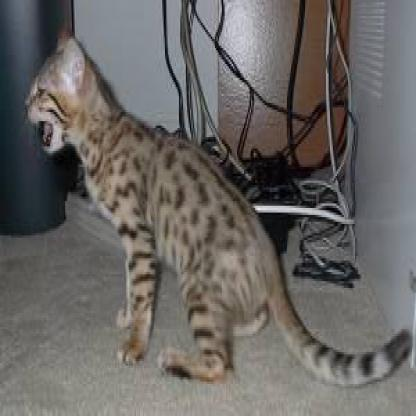cat: (22, 23, 413, 391)
